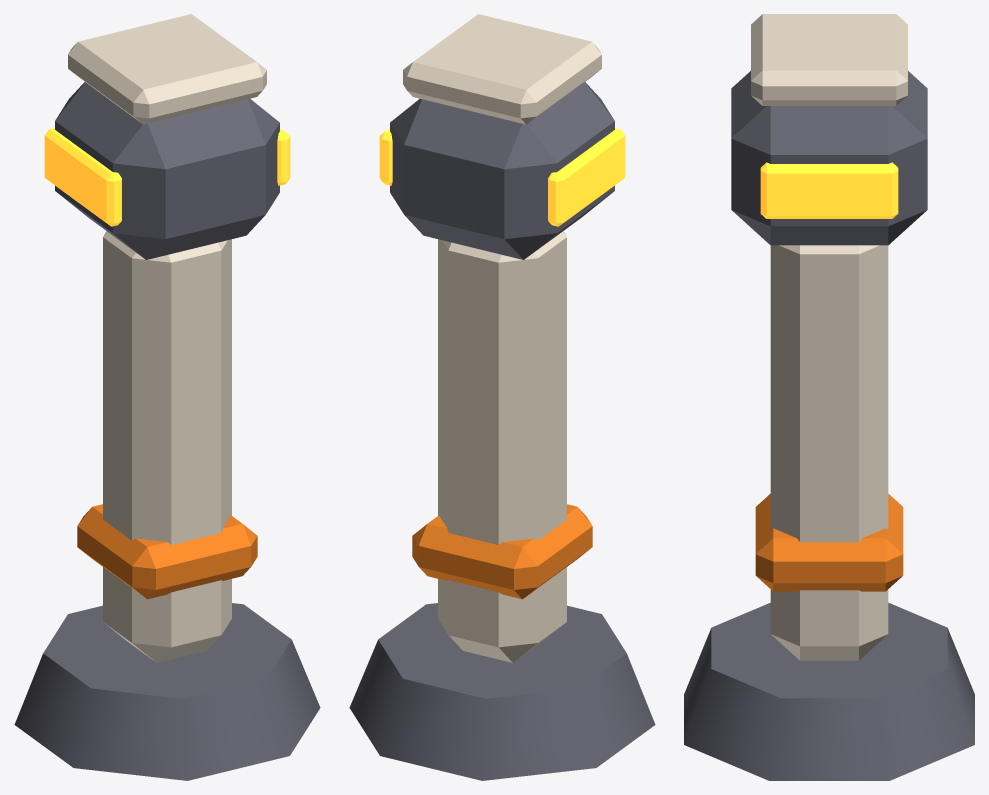
The model's file is path-lamp.glb.
3 renders of one model, left to right at view 1: azimuth 30°, elevation 25°; view 2: azimuth 150°, elevation 25°; view 3: azimuth 270°, elevation 25°, orthographic.
Parts seen in each view (by area): view 1: path-lamp_smooth-structure_structure-gray, path-lamp_smooth-structure, Orange collar, path-lamp_emissive-warm; view 2: path-lamp_smooth-structure_structure-gray, path-lamp_smooth-structure, Orange collar, path-lamp_emissive-warm; view 3: path-lamp_smooth-structure_structure-gray, path-lamp_smooth-structure, Orange collar, path-lamp_emissive-warm.
Boxes of the visible parts, bbox=[...] form: path-lamp_smooth-structure_structure-gray: bbox=[14, 82, 320, 780]; path-lamp_smooth-structure: bbox=[68, 14, 266, 662]; Orange collar: bbox=[77, 504, 257, 599]; path-lamp_emissive-warm: bbox=[44, 128, 290, 226]; path-lamp_smooth-structure_structure-gray: bbox=[349, 82, 655, 780]; path-lamp_smooth-structure: bbox=[403, 14, 601, 662]; Orange collar: bbox=[412, 504, 592, 599]; path-lamp_emissive-warm: bbox=[379, 128, 625, 226]; path-lamp_smooth-structure_structure-gray: bbox=[684, 71, 974, 780]; path-lamp_smooth-structure: bbox=[751, 14, 907, 660]; Orange collar: bbox=[755, 494, 903, 591]; path-lamp_emissive-warm: bbox=[760, 162, 898, 218].
Size of the model in its own units: 0.2956 by 0.76 by 0.2956.
